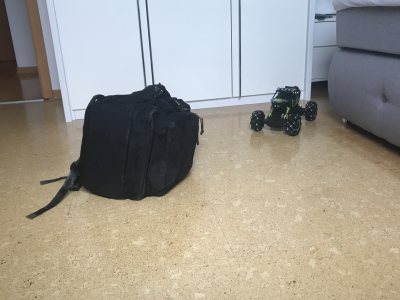remote control car: (247, 82, 320, 137)
